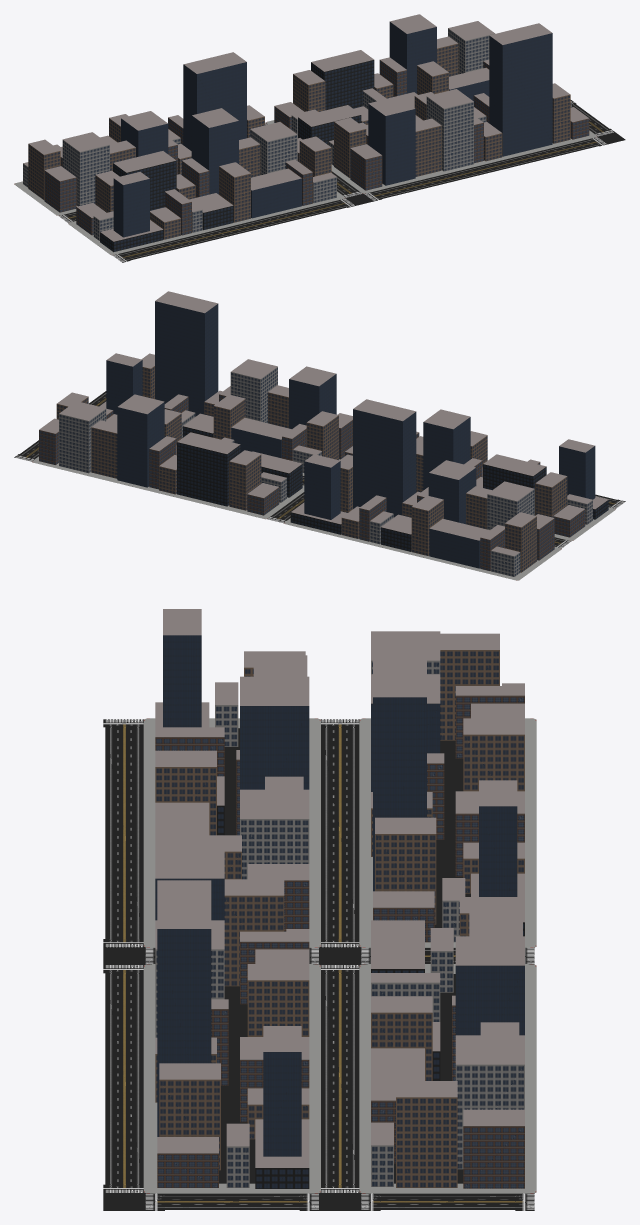
Rendered from city_tile_compressed.glb.
3 renders of one model, top to bottom at view 1: azimuth 30°, elevation 25°; view 2: azimuth 150°, elevation 25°; view 3: azimuth 270°, elevation 25°, orthographic. The views are drawn at different scales.
Visible parts, largest first — view 1: building_groups.003, ground_block_efficient.002; view 2: building_groups.003, ground_block_efficient.002; view 3: building_groups.003, ground_block_efficient.002.
Part boxes in pixels (bbox=[...]): building_groups.003: bbox=[23, 14, 589, 252]; ground_block_efficient.002: bbox=[14, 100, 625, 262]; building_groups.003: bbox=[39, 291, 608, 576]; ground_block_efficient.002: bbox=[14, 391, 625, 580]; building_groups.003: bbox=[155, 609, 524, 1188]; ground_block_efficient.002: bbox=[103, 718, 536, 1210].
Size of the model in its own units: 605 by 128 by 225.
12 materials, 7 textured.
